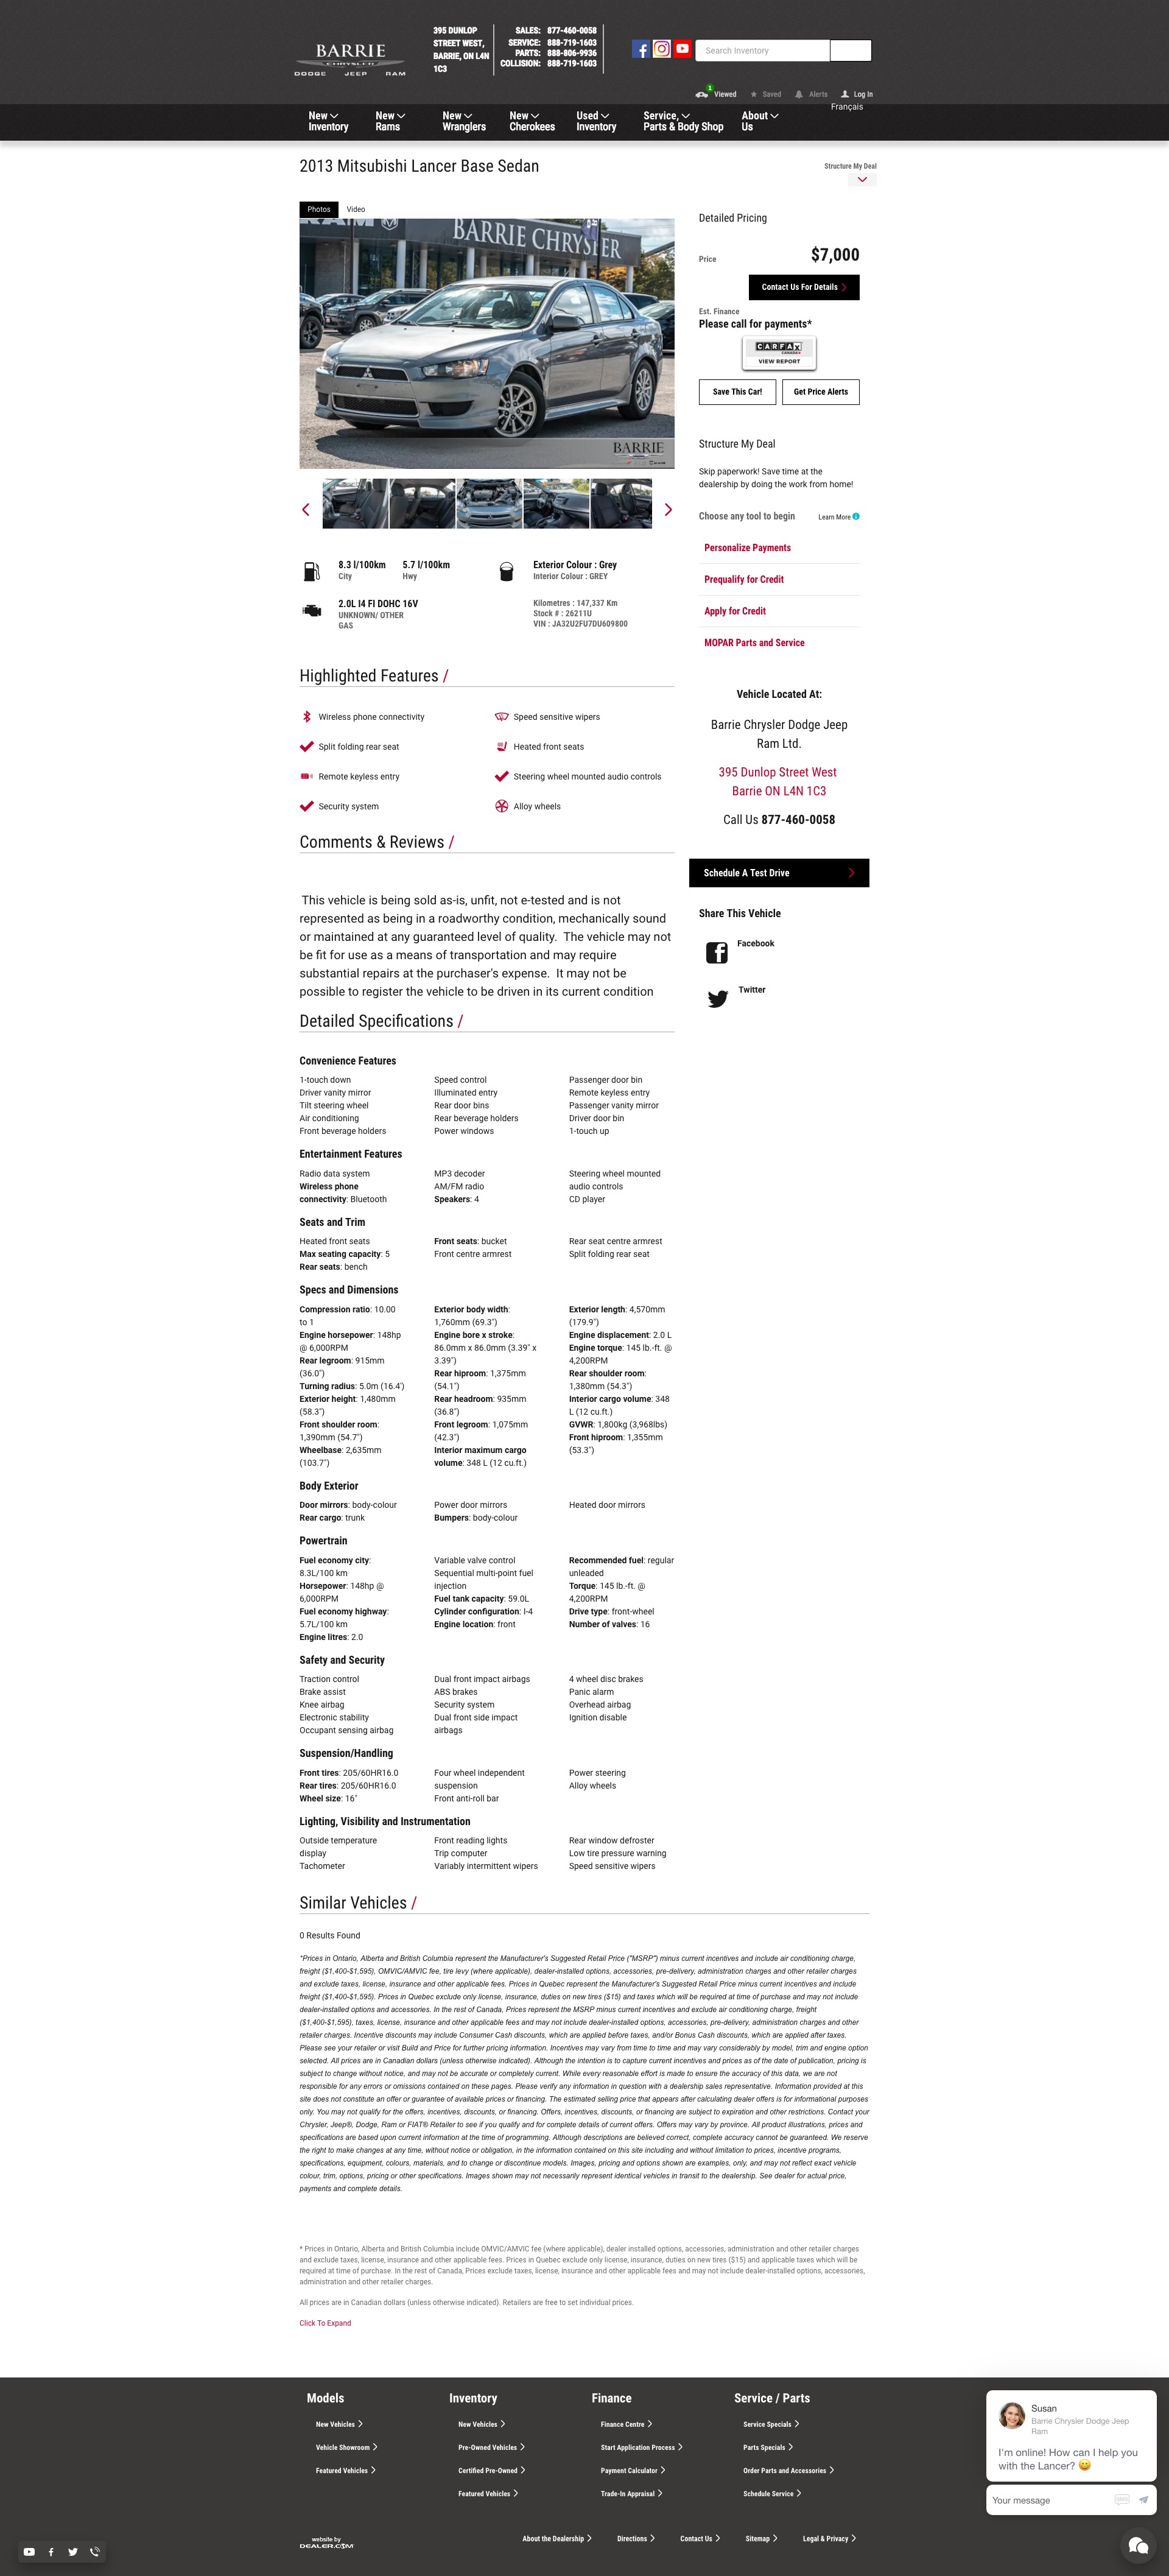car: (665, 504, 673, 517)
